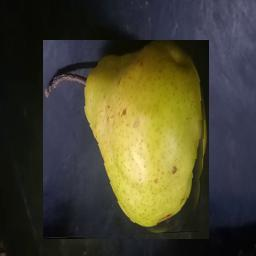Pear Semifresh: (43, 41, 209, 240)
